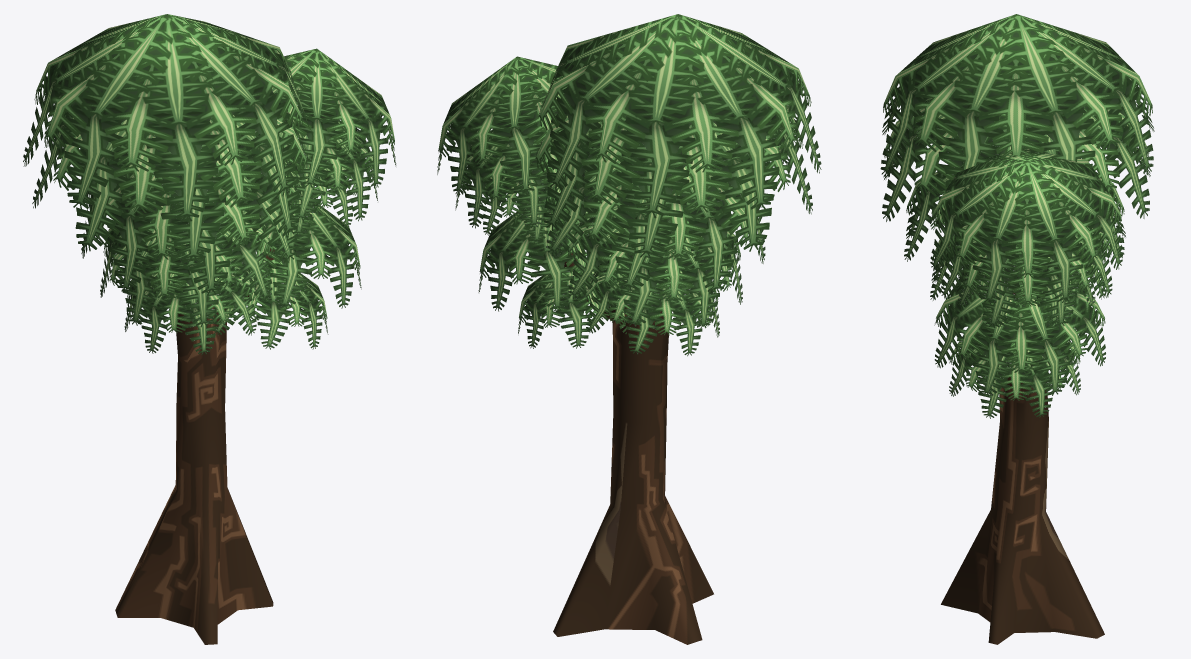
The model's file is ToonTree_03_Var_03.fbx.
3 views of the same model, side by side, from view 1: azimuth 30°, elevation 25°; view 2: azimuth 150°, elevation 25°; view 3: azimuth 270°, elevation 25° (orthographic). The views are drawn at different scales.
Visible parts, largest first — view 1: Leaves, Bark; view 2: Leaves, Bark; view 3: Leaves, Bark.
Boxes of the visible parts, x1=… form: Leaves: x1=23, y1=14, x2=396, y2=354; Bark: x1=115, y1=248, x2=274, y2=644; Leaves: x1=437, y1=14, x2=821, y2=356; Bark: x1=553, y1=253, x2=713, y2=644; Leaves: x1=880, y1=14, x2=1154, y2=418; Bark: x1=941, y1=292, x2=1104, y2=644.
Bounding box in the file's own units: 4.77 × 7.56 × 3.7.
